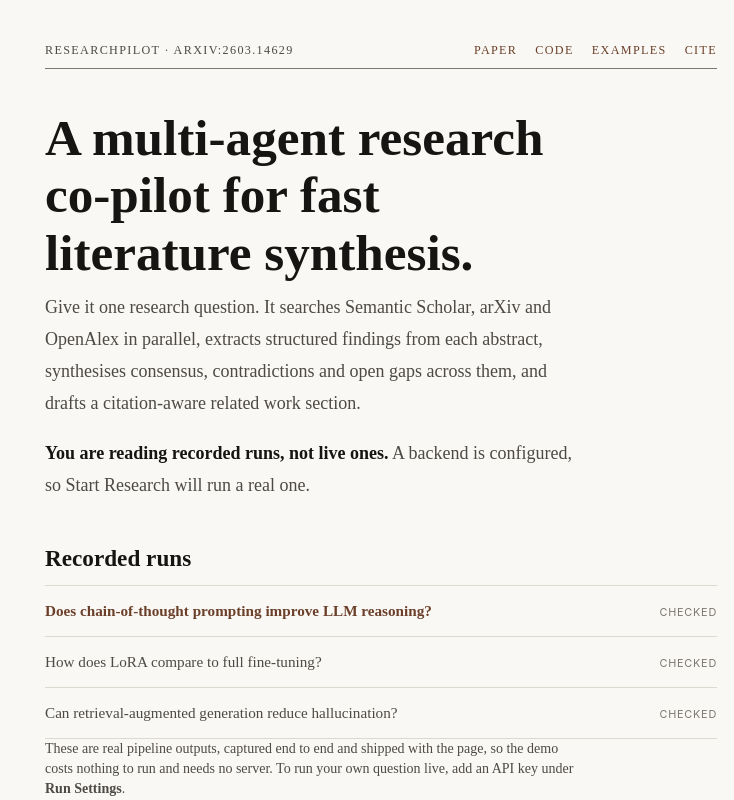
Test: what the run strip claims about itself › reports the prose citation count for rag-hallucination
Click the button "Can retrieval-augmented generation reduce hallucination?" at (344,713), box [45,688,644,738]
(page scrolled)
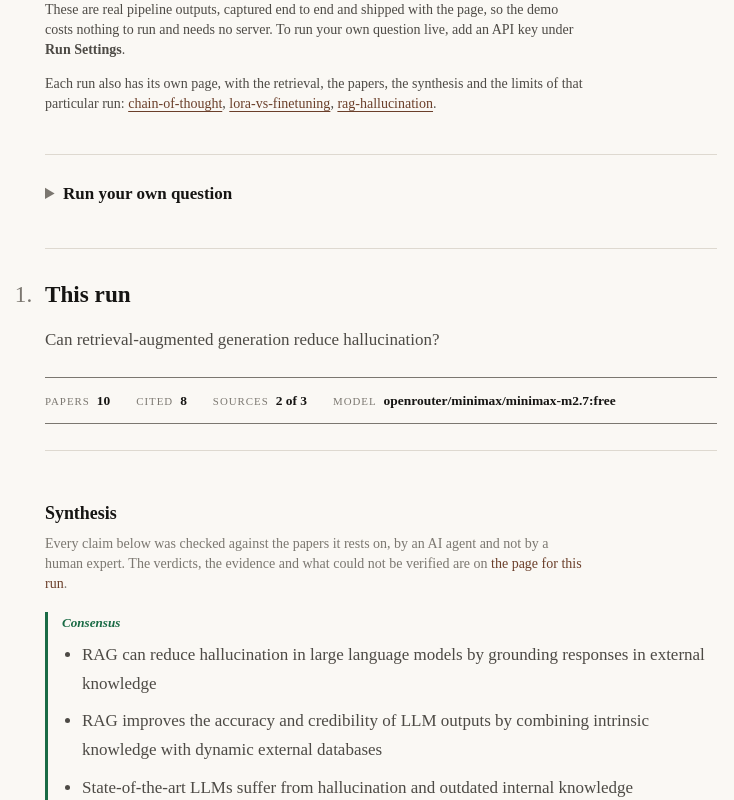
Result: the text "8" is shown at [180,388,187,412]
